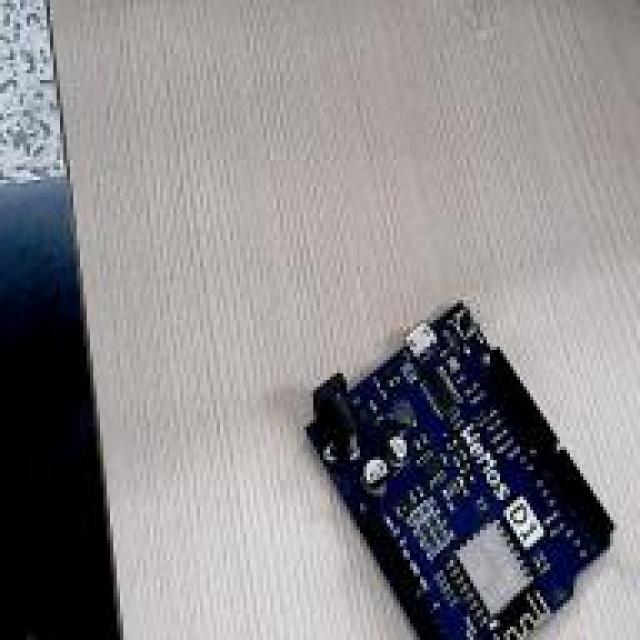Wemos: (308, 304, 611, 638)
